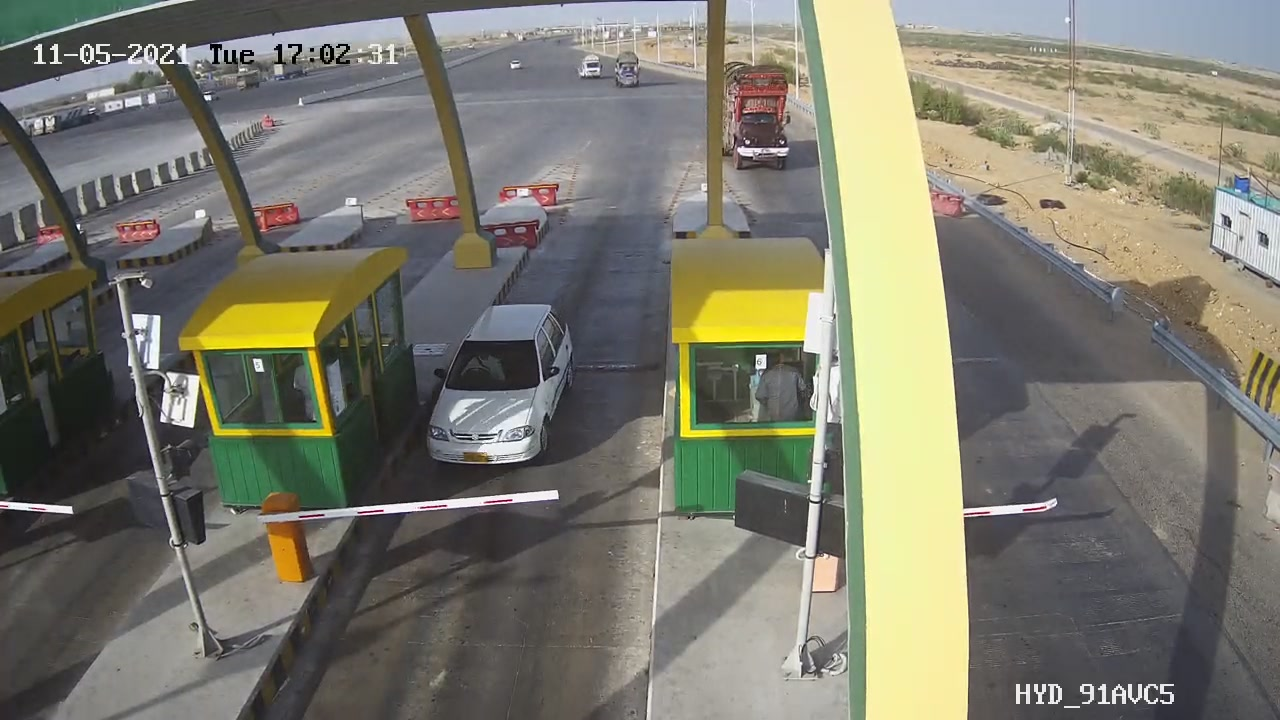F1: (412, 294, 603, 495)
